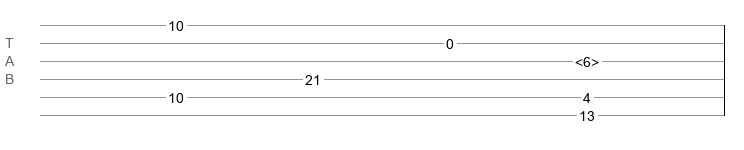0: (446, 36, 454, 46)
10: (168, 18, 184, 28), (168, 90, 184, 100)
13: (579, 108, 595, 118)
21: (305, 72, 321, 82)
4: (583, 90, 591, 100)
harmonic: (575, 54, 599, 64)
